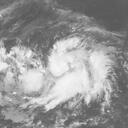cyclone: (44, 36, 106, 97)
